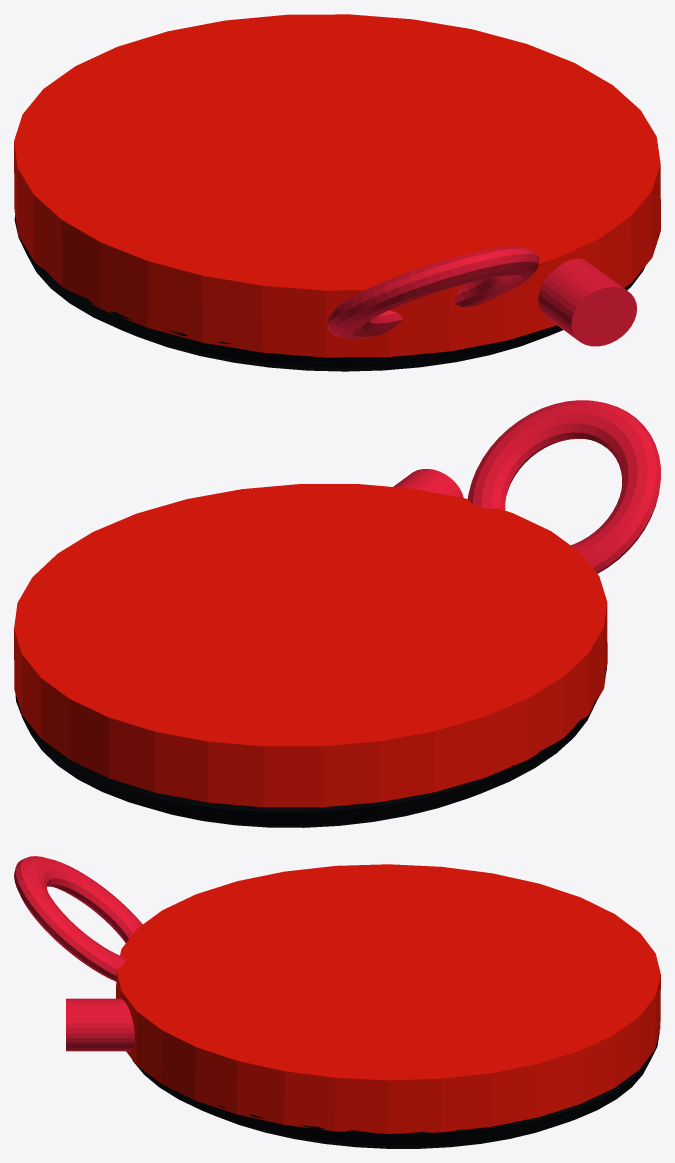
Rendered from ClockSubtract.fbx.
The picture shows the model from 3 angles, top to bottom: view 1: azimuth 30°, elevation 25°; view 2: azimuth 150°, elevation 25°; view 3: azimuth 270°, elevation 25°; orthographic projection. The views are drawn at different scales.
Parts seen in each view (by area): view 1: Clock.001; view 2: Clock.001; view 3: Clock.001.
Boxes of the visible parts, box(x1,y1,x2,y2) form: Clock.001: box(14, 14, 660, 371); Clock.001: box(14, 400, 660, 827); Clock.001: box(14, 856, 660, 1148).
Bounding box in the file's own units: 2.93 × 1 × 3.7.
